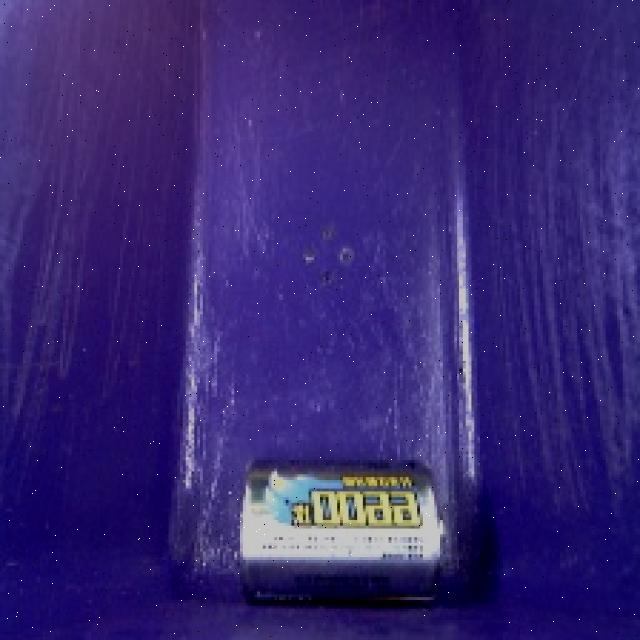battery: (220, 445, 460, 619)
